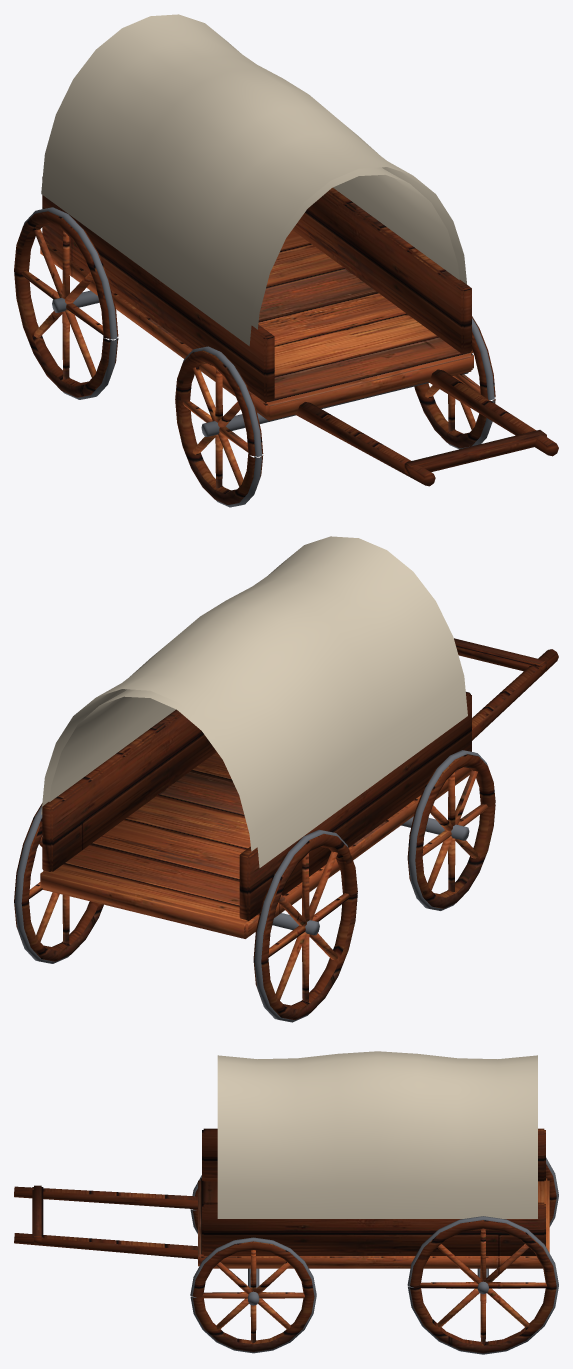
File: edo_wagon.glb
The picture shows the model from 3 angles, top to bottom: view 1: azimuth 30°, elevation 25°; view 2: azimuth 150°, elevation 25°; view 3: azimuth 270°, elevation 25°; orthographic projection. The views are drawn at different scales.
Visible parts, largest first — view 1: wagon_cloth, wagon_charred, wagon_cedar, wagon_iron; view 2: wagon_cloth, wagon_charred, wagon_cedar, wagon_iron; view 3: wagon_cloth, wagon_charred, wagon_cedar, wagon_iron.
Part boxes in pixels (x1,y1,x2,y2): wagon_cloth: [41, 14, 466, 346]; wagon_charred: [14, 177, 558, 504]; wagon_cedar: [21, 229, 480, 488]; wagon_iron: [23, 207, 494, 507]; wagon_cloth: [41, 536, 467, 867]; wagon_charred: [14, 638, 558, 1019]; wagon_cedar: [29, 752, 487, 1002]; wagon_iron: [15, 750, 487, 1022]; wagon_cloth: [217, 1051, 537, 1218]; wagon_charred: [14, 1128, 556, 1353]; wagon_cedar: [198, 1178, 549, 1344]; wagon_iron: [190, 1157, 558, 1354].
Size of the model in its own units: 1.48 by 1.77 by 3.49.
Materials: 4 (2 with a texture image).
